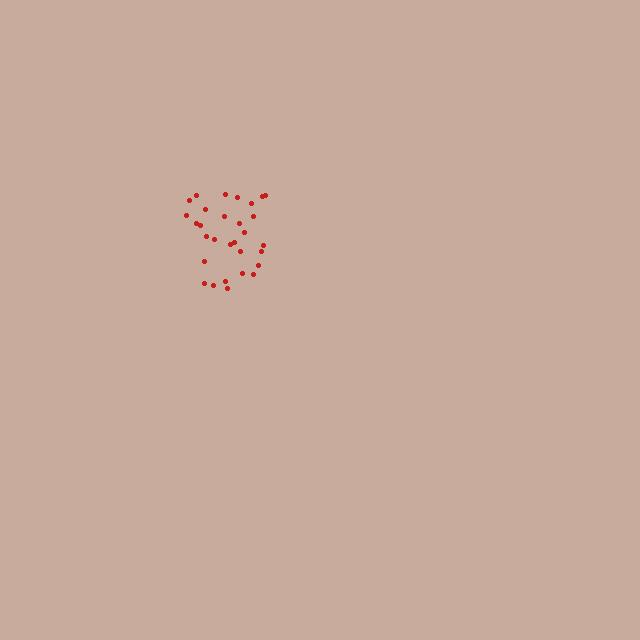abrasion: (186, 189, 266, 292)
